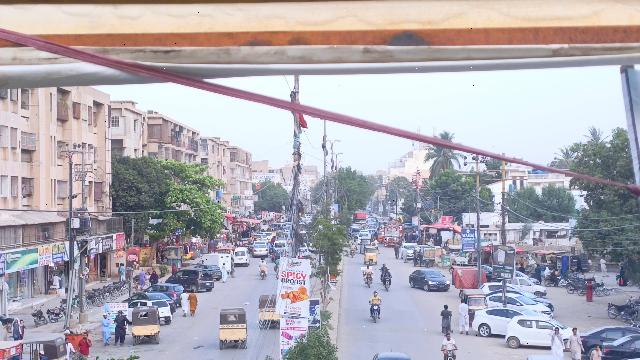Bike: (369, 302, 384, 324), (440, 347, 460, 360), (362, 272, 375, 289), (381, 275, 393, 291), (258, 270, 269, 282)
Car: (501, 313, 571, 348), (472, 306, 531, 337), (166, 268, 215, 292), (407, 268, 450, 292), (580, 327, 631, 346)
Person: (565, 326, 583, 360), (113, 310, 129, 348), (456, 297, 470, 337), (548, 325, 564, 359), (75, 333, 95, 360), (439, 304, 453, 335), (99, 313, 112, 346), (178, 289, 190, 317), (440, 332, 458, 349), (188, 289, 198, 317), (589, 343, 604, 360), (9, 318, 20, 340), (219, 262, 230, 284), (368, 290, 383, 304), (19, 320, 26, 340), (363, 265, 373, 274), (382, 269, 392, 277), (259, 260, 267, 270)
Rickshaw: (216, 307, 250, 350), (130, 306, 161, 347), (463, 289, 488, 328), (257, 293, 279, 330), (362, 245, 380, 265)
Truck: (202, 252, 232, 274)
